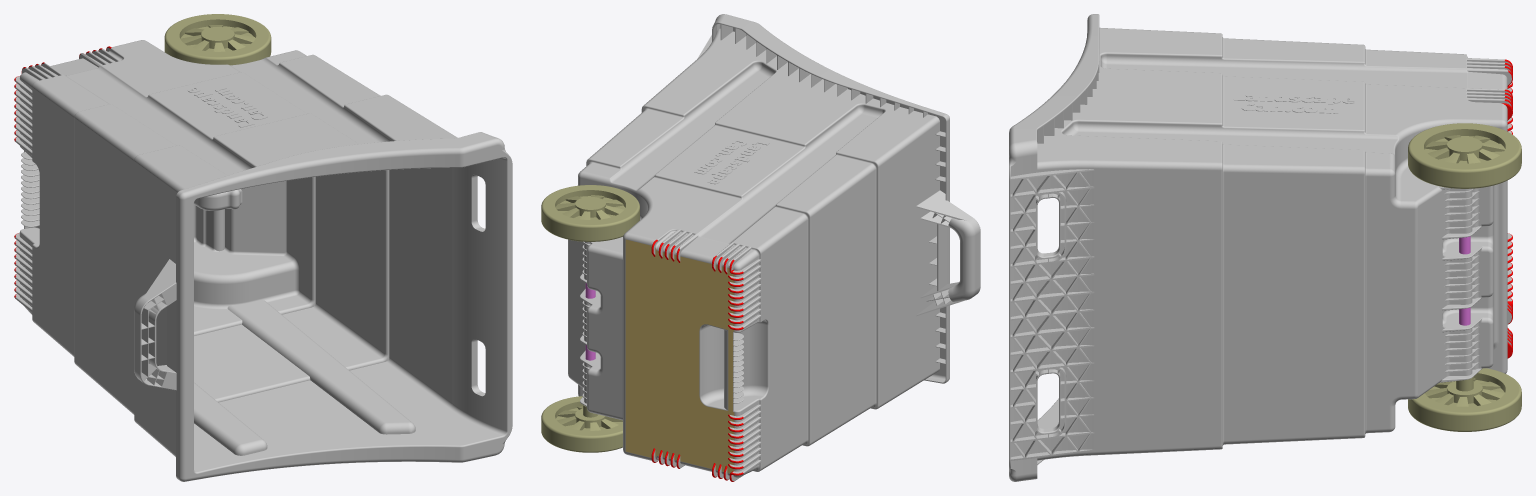
3 views of the same model, side by side, from view 1: azimuth 30°, elevation 25°; view 2: azimuth 150°, elevation 25°; view 3: azimuth 270°, elevation 25° (orthographic). The views are drawn at different scales.
Size of the model in its own units: 0.7278 by 0.666 by 0.9144.
